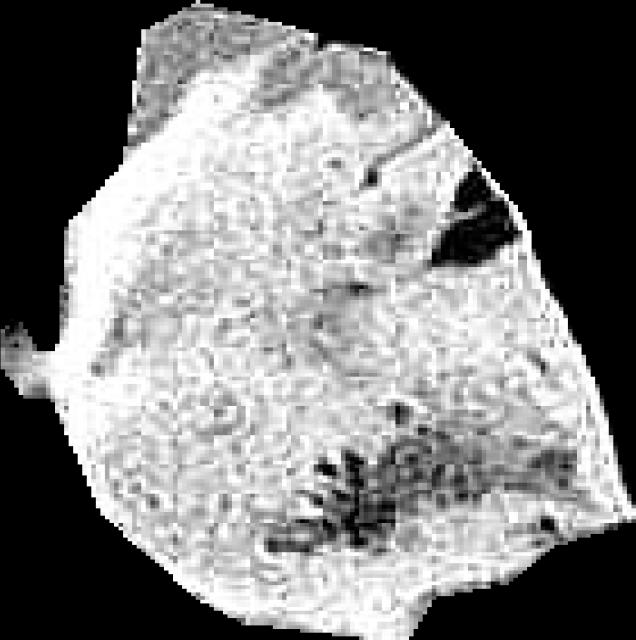tumor_less_chance: (1, 0, 636, 640)
